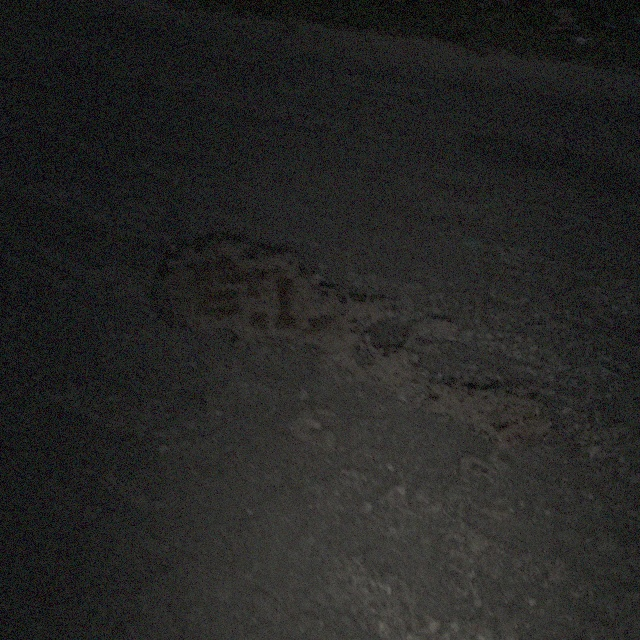pothole: (142, 224, 419, 393), (419, 371, 559, 449)
